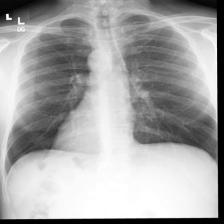normal: (1, 10, 217, 174)
